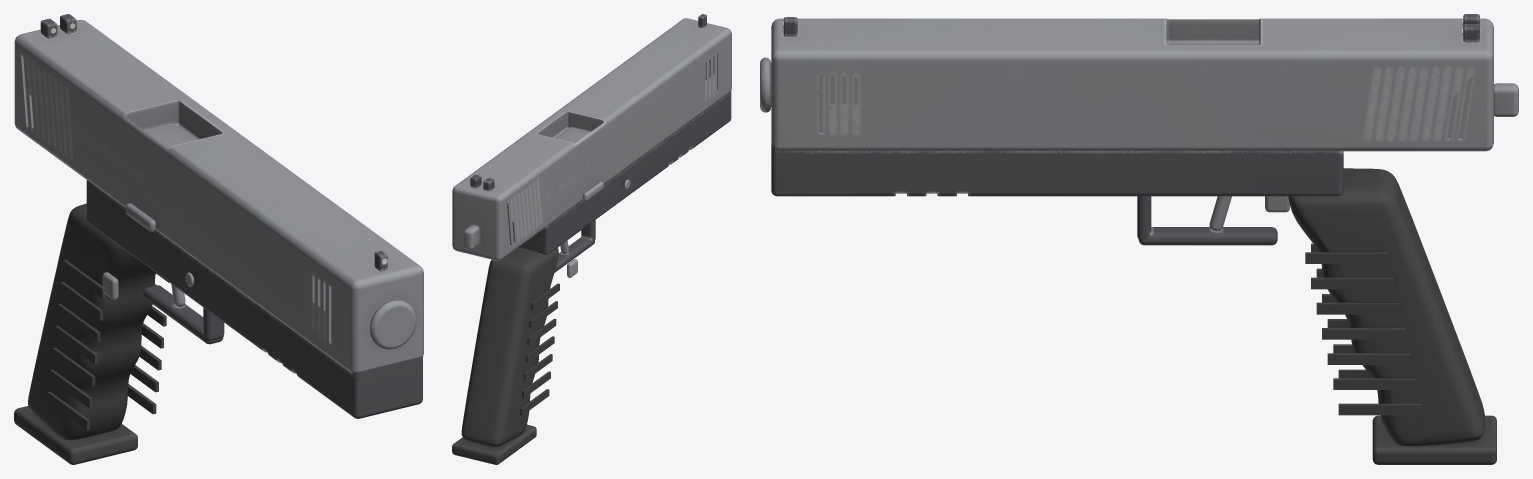
File: deagle.fbx
The picture shows the model from 3 angles, left to right: view 1: azimuth 30°, elevation 25°; view 2: azimuth 150°, elevation 25°; view 3: azimuth 270°, elevation 25°; orthographic projection. The views are drawn at different scales.
Parts seen in each view (by area): view 1: deagle; view 2: deagle; view 3: deagle.
Part boxes in pixels (x1,y1,x2,y2): deagle: (14, 14, 423, 464); deagle: (452, 14, 731, 464); deagle: (760, 14, 1518, 464).
Size of the model in its own units: 0.035 by 0.171 by 0.273.
